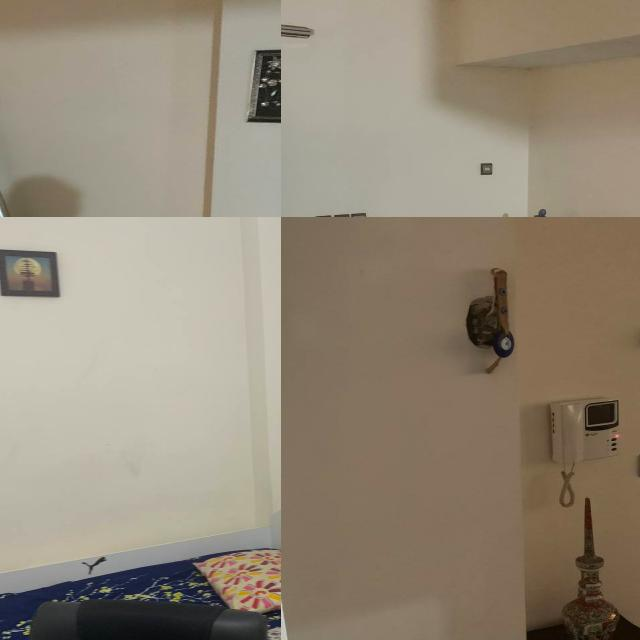Wall: (281, 217, 640, 640), (281, 0, 529, 217), (546, 58, 640, 217)
